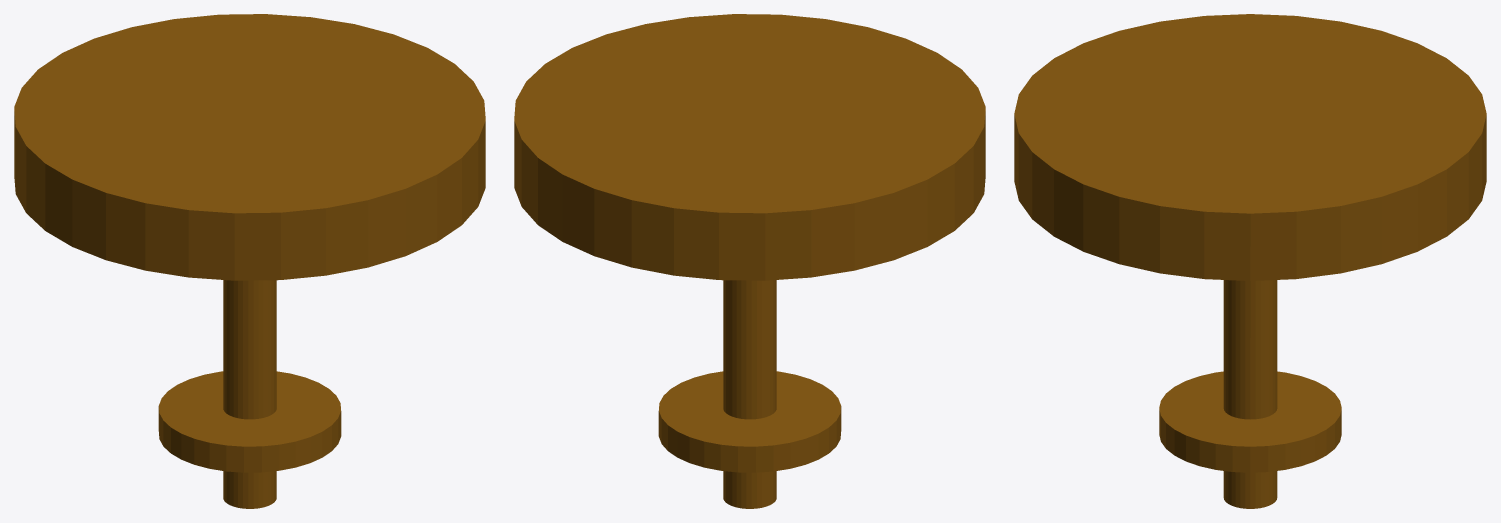
The model's file is BirdHouse_Table.fbx.
3 views of the same model, side by side, from view 1: azimuth 30°, elevation 25°; view 2: azimuth 150°, elevation 25°; view 3: azimuth 270°, elevation 25° (orthographic).
Parts seen in each view (by area): view 1: Tisch; view 2: Tisch; view 3: Tisch.
Part boxes in pixels (x1,y1,x2,y2): Tisch: (14,14,485,508); Tisch: (514,14,985,508); Tisch: (1014,14,1486,508).
Bounding box in the file's own units: 138 × 124 × 138.
